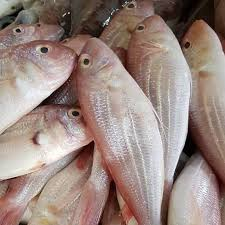Ikan Kerisi: (71, 33, 168, 225), (128, 14, 194, 171), (1, 98, 101, 173), (3, 38, 78, 98)
